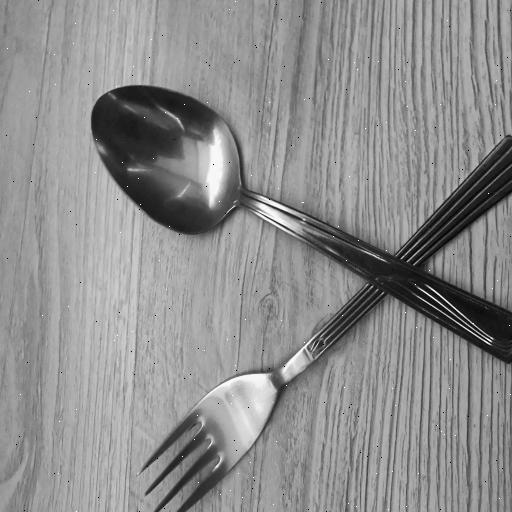fork: (136, 135, 512, 512)
spoon: (88, 83, 512, 363)
